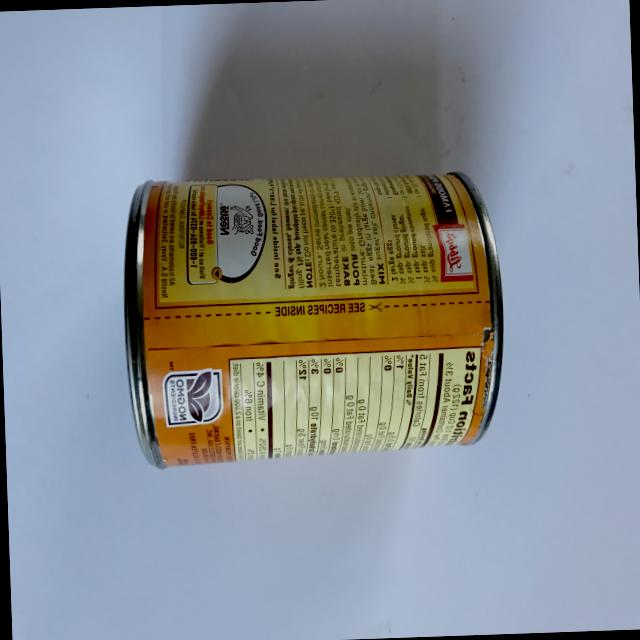Metal: (105, 150, 522, 475)
